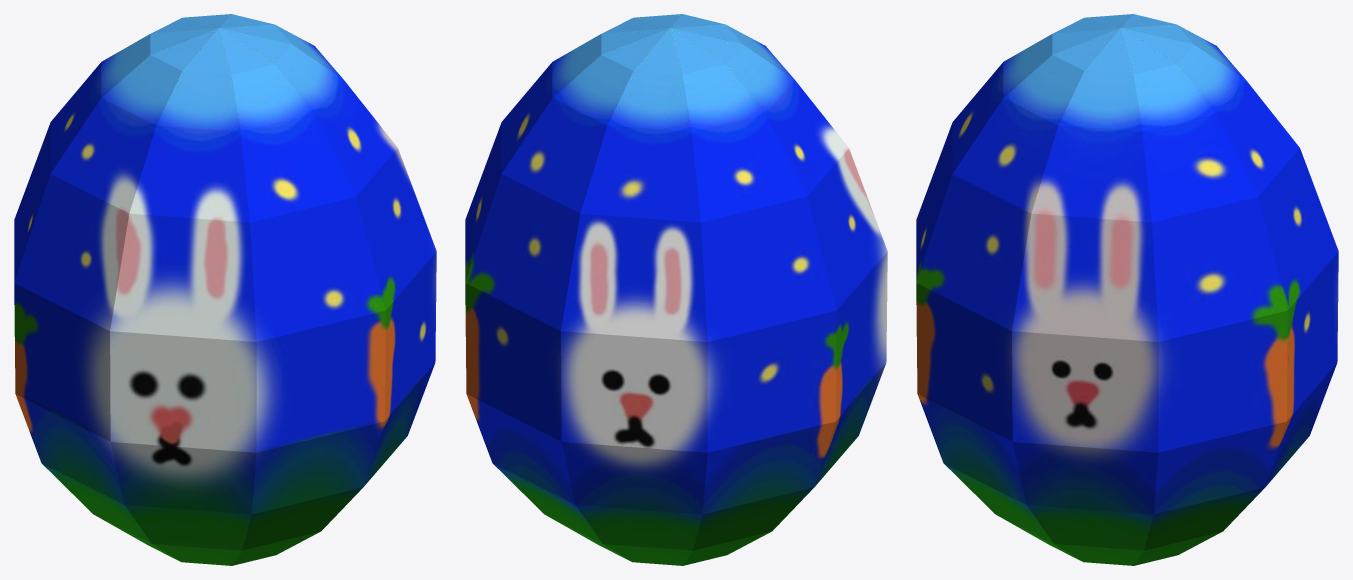
File: egg_rabbit.glb
The picture shows the model from 3 angles, left to right: view 1: azimuth 30°, elevation 25°; view 2: azimuth 150°, elevation 25°; view 3: azimuth 270°, elevation 25°; orthographic projection.
Visible parts, largest first — view 1: Ei; view 2: Ei; view 3: Ei.
Part boxes in pixels (box(x1,y1,x2,y2)): Ei: box(14, 14, 436, 565); Ei: box(465, 14, 887, 565); Ei: box(916, 14, 1338, 565).
Bounding box in the file's own units: 0.3486 × 0.4649 × 0.3433.
1 material, 1 textured.
